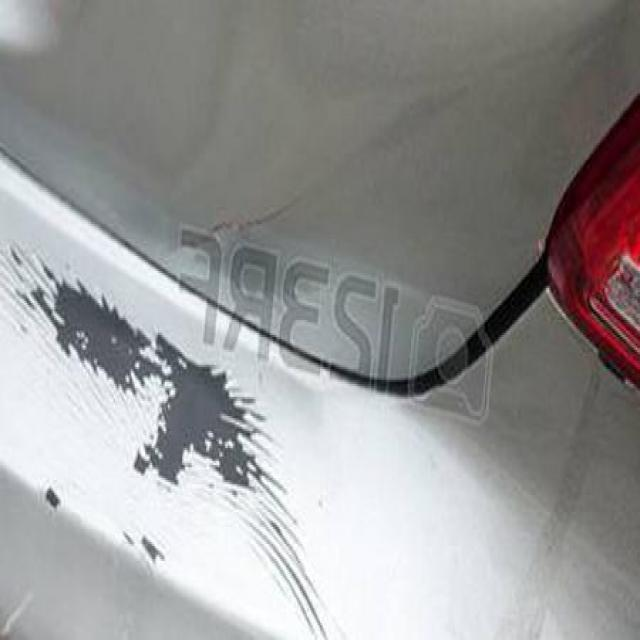scratch: (9, 205, 339, 600)
